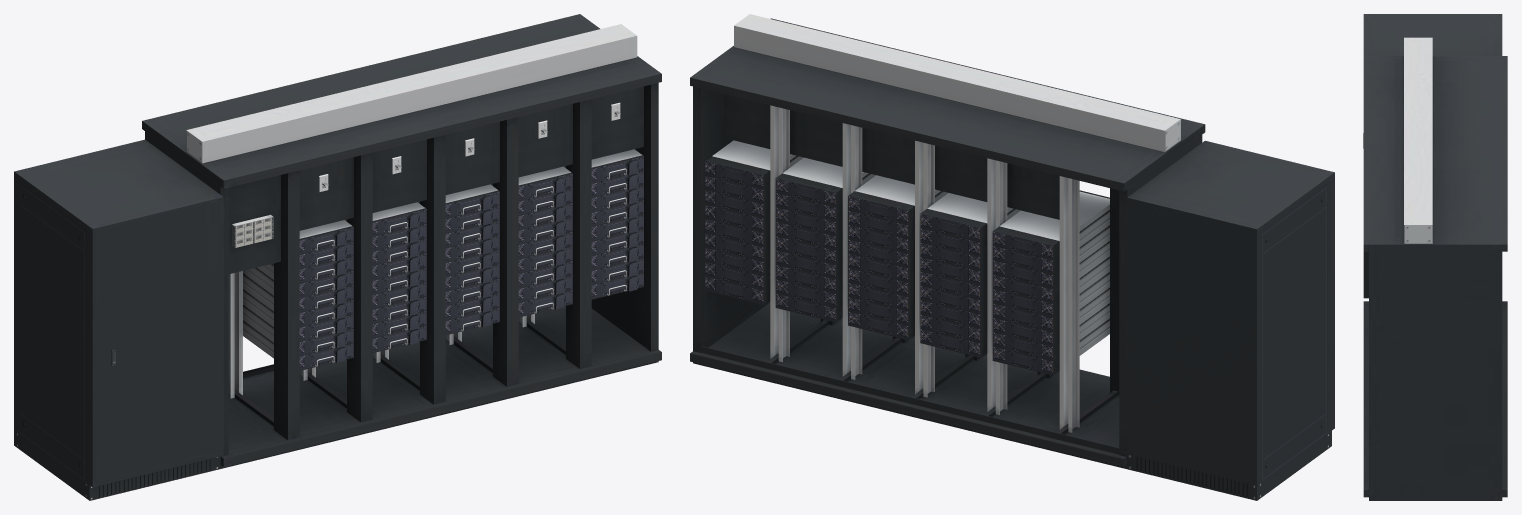
Rendered from LithiumionBattery.gltf.
3 views of the same model, side by side, from view 1: azimuth 30°, elevation 25°; view 2: azimuth 150°, elevation 25°; view 3: azimuth 270°, elevation 25° (orthographic). The views are drawn at different scales.
Visible parts, largest first — view 1: Lithiumionbattery; view 2: Lithiumionbattery; view 3: Lithiumionbattery.
Boxes of the visible parts, left/top/right/bottom form: Lithiumionbattery: left=14, top=14, right=661, bottom=500; Lithiumionbattery: left=690, top=14, right=1334, bottom=500; Lithiumionbattery: left=1363, top=14, right=1507, bottom=500.
Size of the model in its own units: 434 by 228 by 108.
1 material, 1 textured.
